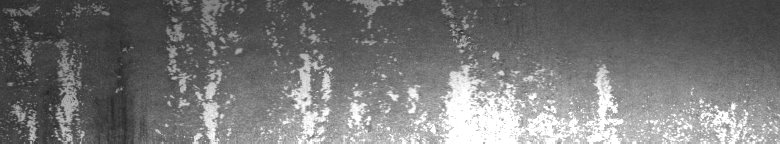kb: (4, 4, 623, 136)
